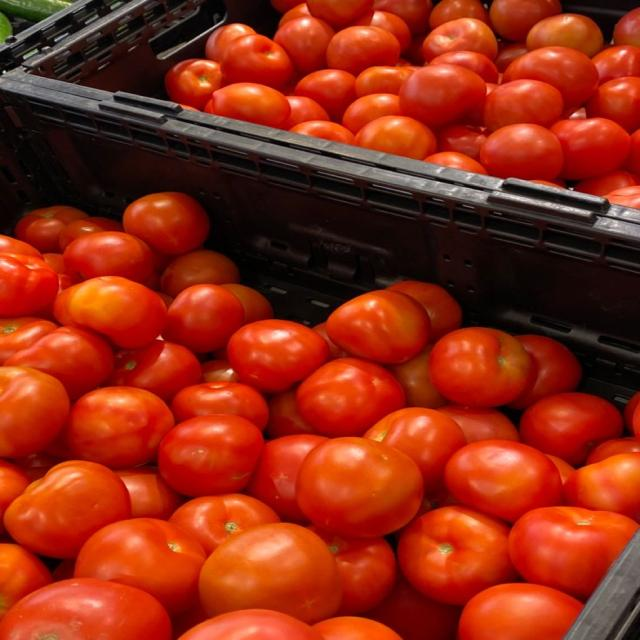tomato: (200, 523, 341, 623), (296, 438, 423, 538), (74, 518, 206, 614), (5, 461, 131, 558), (509, 507, 638, 600), (398, 506, 517, 604), (0, 579, 172, 639), (445, 440, 562, 522), (63, 387, 173, 469), (364, 408, 466, 493), (158, 415, 263, 497), (297, 358, 405, 437), (54, 276, 166, 348), (429, 328, 530, 407), (308, 525, 396, 615), (6, 327, 113, 399), (327, 290, 430, 364), (520, 393, 622, 466), (227, 320, 328, 393), (246, 434, 327, 524), (458, 583, 582, 639), (169, 494, 279, 555), (363, 573, 459, 639), (0, 366, 69, 457), (503, 46, 599, 108), (107, 340, 201, 402), (162, 284, 244, 353), (123, 192, 209, 255), (399, 64, 486, 126), (510, 335, 581, 409), (564, 453, 639, 521), (551, 117, 630, 179), (480, 123, 564, 180), (171, 382, 268, 430), (178, 609, 322, 639), (483, 79, 563, 131), (220, 34, 293, 88), (0, 543, 51, 619), (160, 250, 239, 298), (205, 83, 290, 127), (0, 253, 58, 317), (388, 346, 446, 409), (116, 466, 184, 519), (327, 25, 399, 75), (355, 115, 436, 159), (274, 16, 335, 74), (14, 206, 87, 252), (526, 14, 603, 57), (423, 18, 498, 62), (294, 70, 356, 121), (438, 405, 519, 442), (586, 77, 639, 133), (489, 0, 561, 41), (165, 59, 221, 110), (0, 316, 57, 364), (349, 10, 411, 51), (265, 388, 313, 439), (342, 94, 399, 135), (0, 460, 31, 533), (59, 217, 124, 251), (430, 50, 499, 82), (222, 282, 273, 324), (313, 616, 401, 639), (205, 23, 255, 62), (374, 0, 432, 33), (355, 66, 413, 97), (307, 0, 373, 27), (438, 125, 487, 161), (593, 45, 639, 83), (429, 0, 489, 28), (574, 171, 639, 196), (282, 96, 329, 130), (290, 121, 354, 144), (172, 599, 208, 639), (586, 437, 639, 464), (463, 83, 497, 125), (424, 152, 487, 174), (313, 323, 348, 360), (494, 41, 528, 73), (400, 32, 427, 70), (0, 235, 42, 259), (0, 480, 26, 517), (614, 8, 639, 46), (278, 2, 311, 28), (201, 359, 238, 382), (546, 455, 575, 484), (604, 186, 639, 208), (624, 392, 639, 431), (43, 252, 67, 275), (52, 558, 74, 582), (271, 0, 298, 14)
